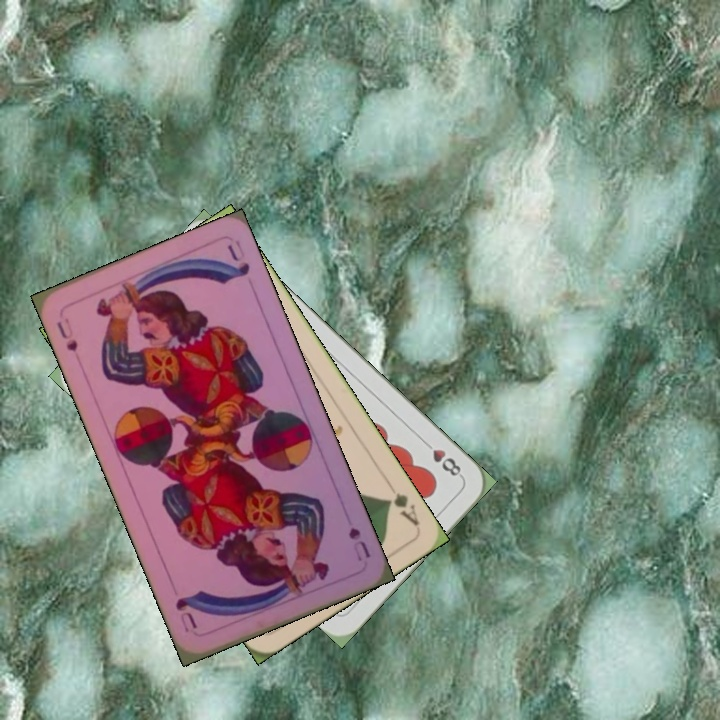GA: (380, 477, 422, 529)
H8: (418, 436, 466, 481)
SU: (344, 522, 374, 564), (52, 314, 81, 355)
